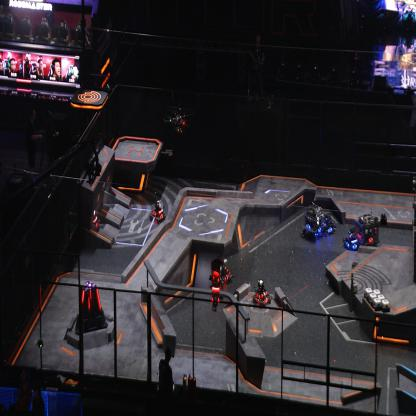car: (354, 211, 379, 249), (300, 203, 324, 240), (208, 256, 234, 288), (251, 279, 272, 306), (149, 199, 167, 225), (343, 227, 360, 253), (320, 211, 336, 236), (86, 207, 100, 231)
